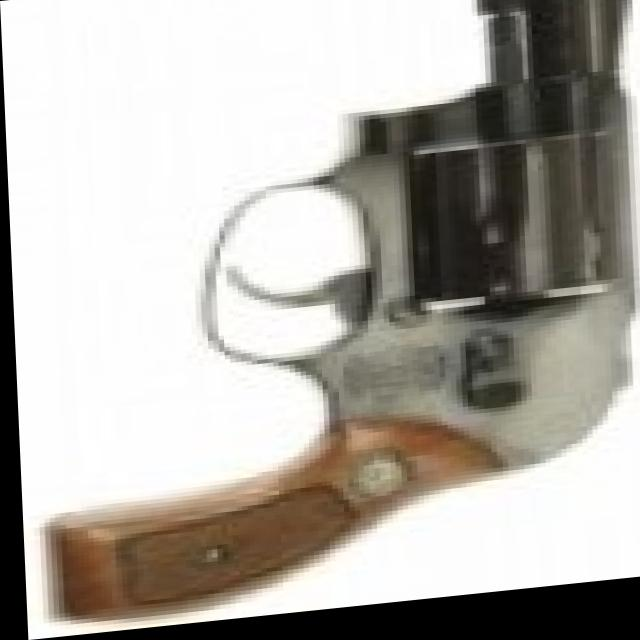handgun: (5, 0, 640, 628)
